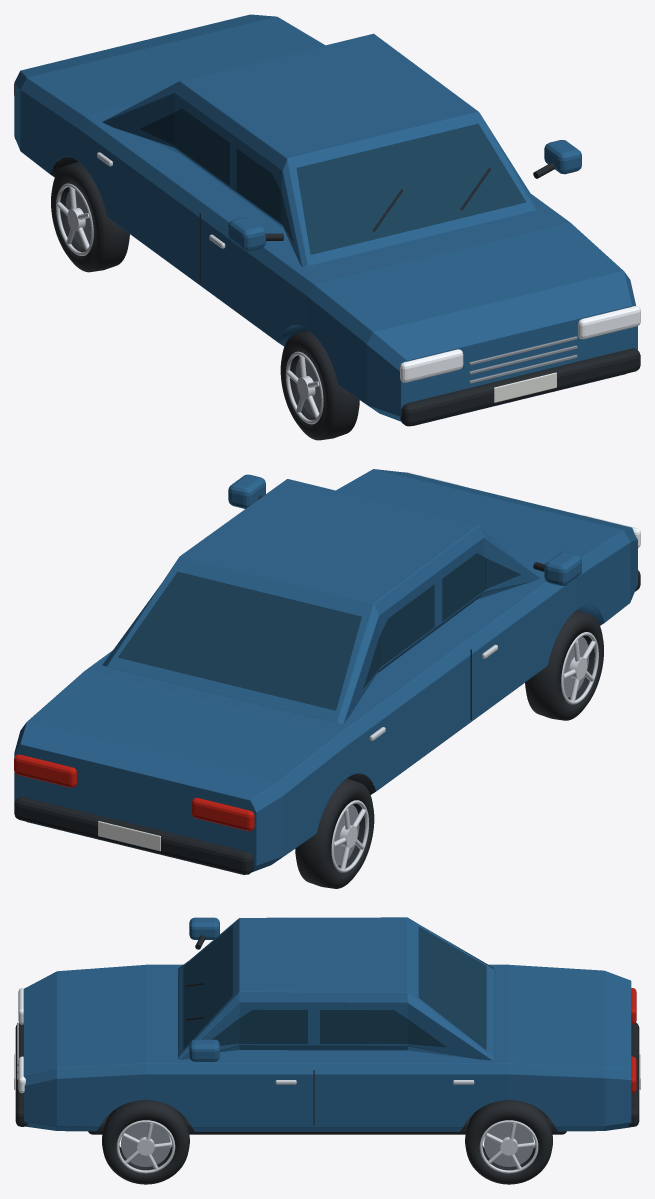
The model's file is car-sedan.glb.
3 views of the same model, one above another, from view 1: azimuth 30°, elevation 25°; view 2: azimuth 150°, elevation 25°; view 3: azimuth 270°, elevation 25° (orthographic). The views are drawn at different scales.
Parts seen in each view (by area): view 1: Coachwork lower body, Cab and roof, Front side glass, Front_tire, Bumper, Door handle, Headlamp, Front_brake, Blank registration panel; view 2: Coachwork lower body, Cab and roof, Front side glass, Front_tire, Bumper, Door handle, Tail lamp, Front_brake, Blank registration panel; view 3: Coachwork lower body, Cab and roof, Front side glass, Front_tire, Bumper, Door handle, Front_brake, Headlamp, Tail lamp.
Boxes of the visible parts, left/top/right/bottom form: Coachwork lower body: left=14, top=14, right=637, bottom=425; Cab and roof: left=102, top=33, right=540, bottom=267; Front side glass: left=140, top=108, right=525, bottom=254; Front_tire: left=51, top=161, right=359, bottom=440; Bumper: left=15, top=138, right=640, bottom=426; Door handle: left=56, top=152, right=323, bottom=424; Headlamp: left=400, top=306, right=640, bottom=382; Front_brake: left=65, top=190, right=577, bottom=416; Blank registration panel: left=494, top=372, right=556, bottom=402; Coachwork lower body: left=14, top=469, right=637, bottom=874; Cab and roof: left=102, top=479, right=540, bottom=723; Front side glass: left=118, top=553, right=520, bottom=710; Front_tire: left=295, top=610, right=603, bottom=888; Bumper: left=14, top=495, right=640, bottom=874; Door handle: left=331, top=632, right=598, bottom=872; Tail lamp: left=14, top=754, right=254, bottom=831; Front_brake: left=333, top=636, right=589, bottom=865; Blank registration panel: left=98, top=821, right=160, bottom=851; Coachwork lower body: left=23, top=917, right=631, bottom=1131; Cab and roof: left=178, top=917, right=494, bottom=1060; Front side glass: left=183, top=926, right=486, bottom=1049; Front_tire: left=102, top=1100, right=552, bottom=1184; Bumper: left=15, top=935, right=639, bottom=1134; Door handle: left=116, top=1080, right=538, bottom=1173; Front_brake: left=17, top=1022, right=533, bottom=1166; Headlamp: left=18, top=988, right=25, bottom=1093; Tail lamp: left=631, top=988, right=636, bottom=1093.
Size of the model in its own units: 2.32 by 1.48 by 4.7.
